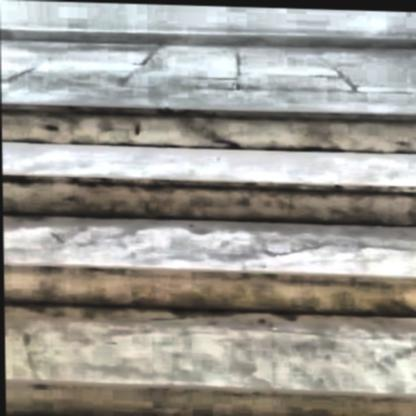stair: (5, 16, 415, 414)
